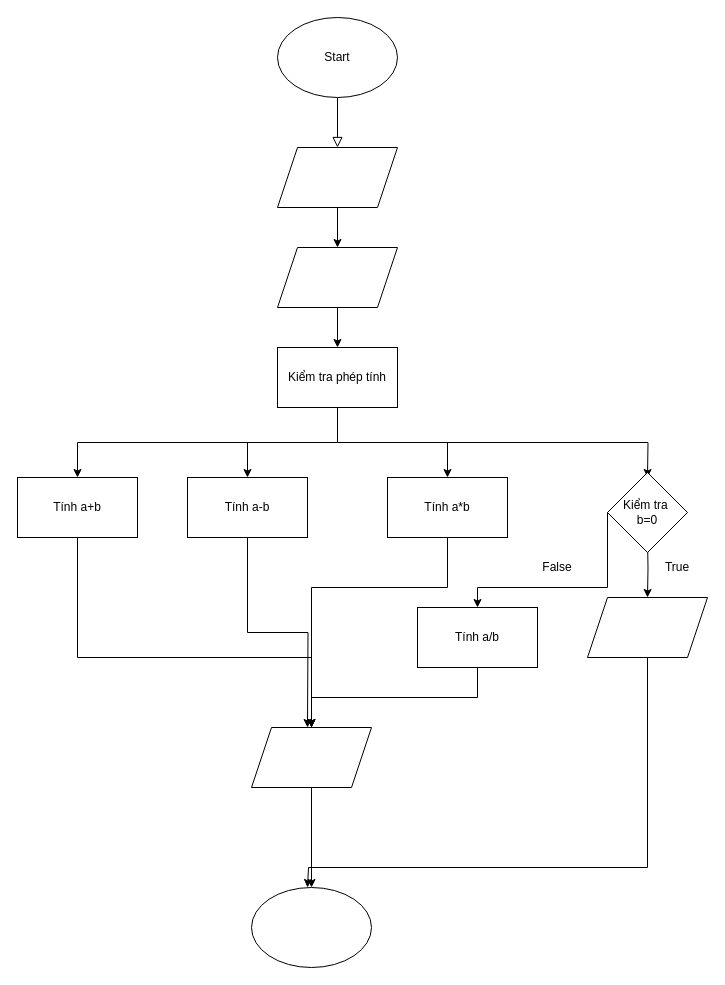
The diagram is 725 pixels wide and 985 high, and some of its shapes have lost their labels. Each missing label, with the centre of its shape:
"In kết quả" belongs at [311,757].
"Nhập a,b" belongs at [337,177].
"Nhập phép toán (+-*/)" belongs at [337,277].
"Thông báo chia cho 0" belongs at [647,627].
